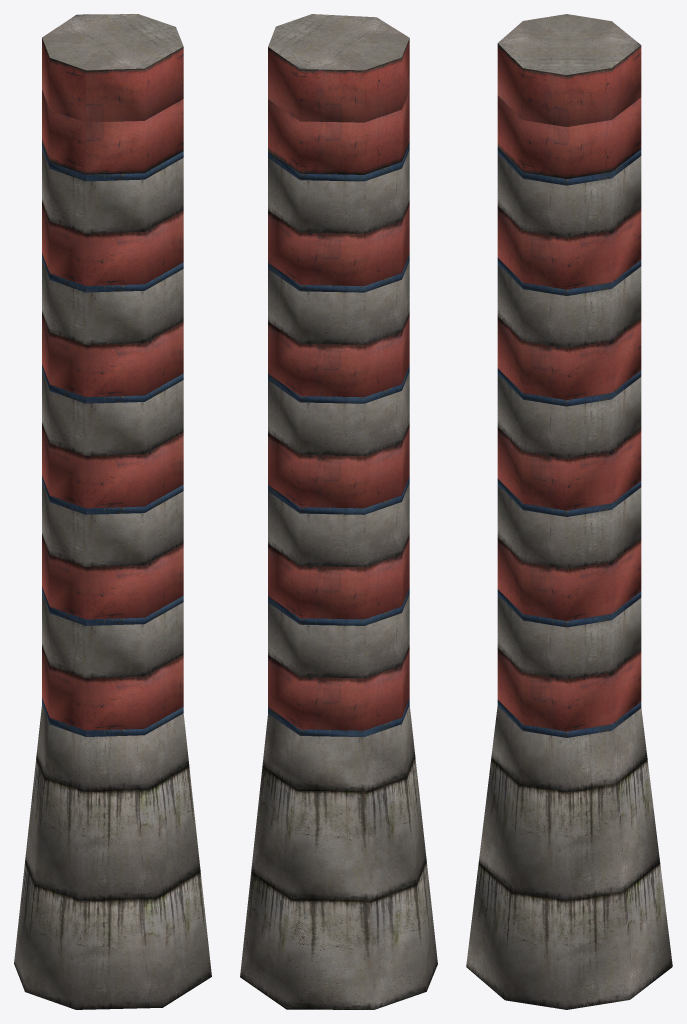
File: Building_Yc01_lod2.glb
3 renders of one model, left to right at view 1: azimuth 30°, elevation 25°; view 2: azimuth 150°, elevation 25°; view 3: azimuth 270°, elevation 25°, orthographic.
Parts seen in each view (by area): view 1: xiutz_yc_01_lod2; view 2: xiutz_yc_01_lod2; view 3: xiutz_yc_01_lod2.
Boxes of the visible parts, x1,y1,x2,y2 form: xiutz_yc_01_lod2: (14,14,211,1009); xiutz_yc_01_lod2: (240,14,437,1009); xiutz_yc_01_lod2: (466,14,672,1009).
Size of the model in its own units: 14.03 by 70.83 by 14.38.
Materials: 1 (1 with a texture image).
